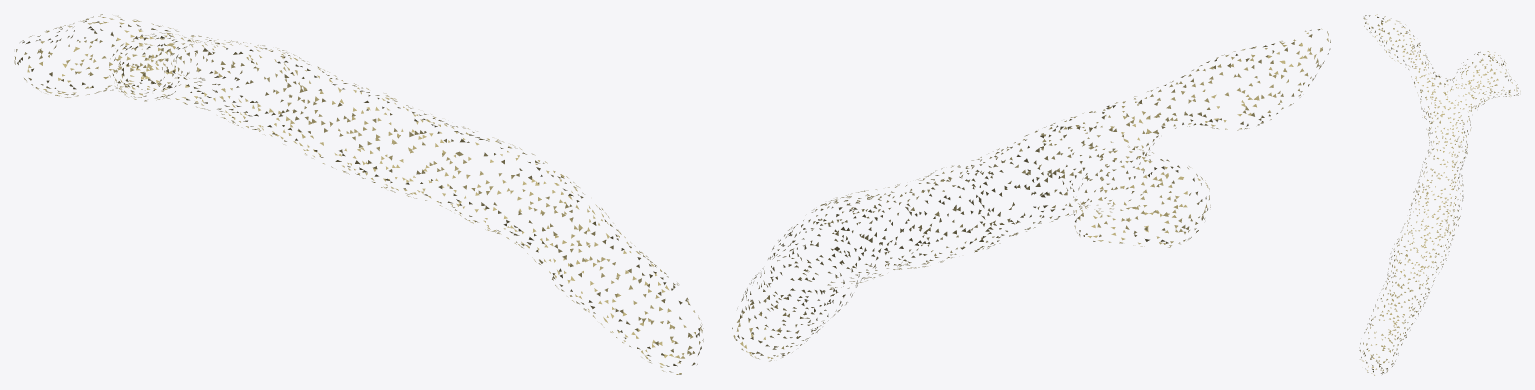
The model's file is morph_008.glb.
The picture shows the model from 3 angles, left to right: view 1: azimuth 30°, elevation 25°; view 2: azimuth 150°, elevation 25°; view 3: azimuth 270°, elevation 25°; orthographic projection. The views are drawn at different scales.
Bounding box in the file's own units: 95.02 × 71.68 × 45.71.
